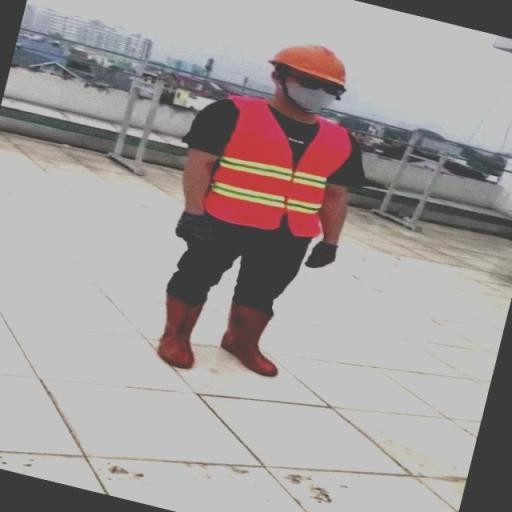Person: (119, 8, 378, 424)
boots: (216, 294, 286, 388), (151, 284, 206, 375)
gloves: (166, 203, 214, 252), (302, 228, 334, 274)
goggles: (278, 68, 346, 101)
helmet: (265, 40, 363, 90)
vest: (207, 100, 341, 243)
